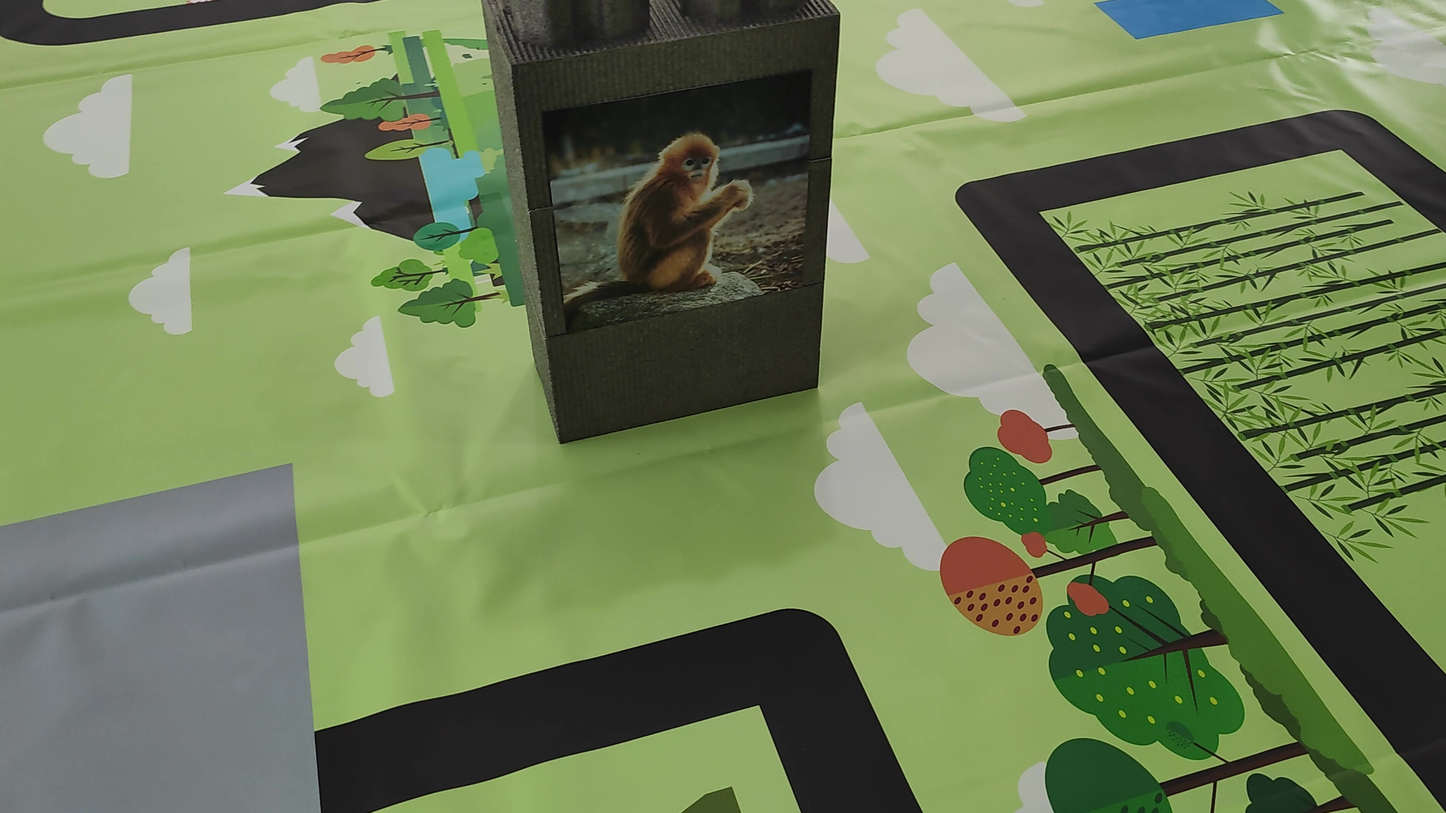monkey: (563, 116, 776, 318)
